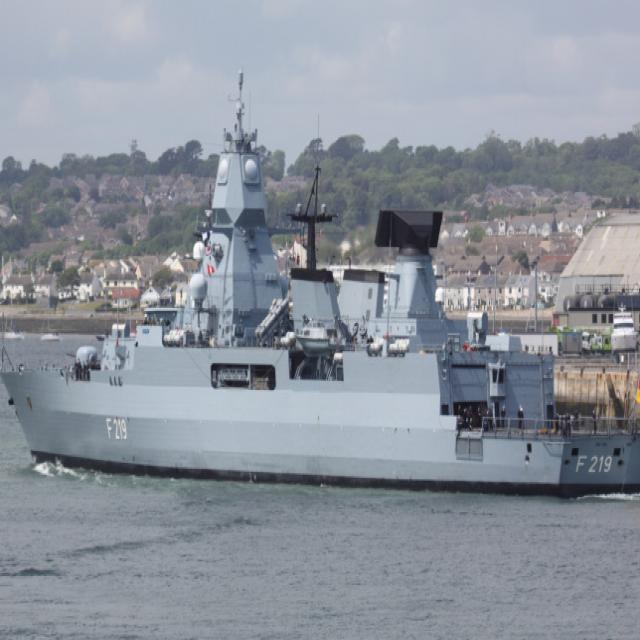Fragata: (1, 65, 640, 504)
